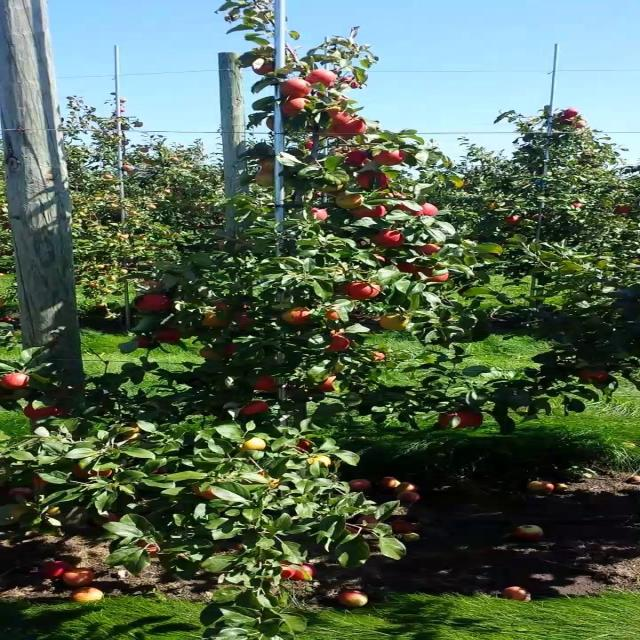apple: (344, 281, 382, 300), (331, 118, 367, 138), (133, 294, 173, 311), (356, 170, 389, 189), (280, 78, 311, 98), (73, 464, 113, 479), (304, 69, 338, 86), (22, 404, 58, 420), (373, 230, 404, 248), (324, 332, 351, 352), (371, 150, 404, 166), (578, 368, 611, 384), (280, 565, 313, 581), (380, 314, 411, 331), (282, 306, 309, 325), (351, 205, 387, 219), (456, 410, 482, 429), (0, 372, 29, 389), (280, 98, 307, 116), (336, 192, 364, 209), (436, 411, 462, 429), (240, 400, 269, 416), (202, 311, 229, 328), (324, 106, 351, 123), (420, 268, 451, 282), (251, 375, 278, 391), (251, 58, 276, 75), (344, 149, 369, 166), (156, 328, 182, 344), (136, 540, 160, 557), (280, 565, 304, 581), (93, 512, 120, 526), (396, 201, 422, 215), (194, 485, 218, 500), (329, 109, 351, 125), (240, 438, 267, 451), (411, 202, 436, 216), (236, 312, 256, 329), (416, 242, 442, 255), (200, 346, 224, 360), (256, 169, 273, 188), (313, 184, 344, 194), (318, 375, 336, 392), (307, 455, 331, 467), (136, 281, 164, 291), (396, 262, 420, 273), (331, 112, 353, 124), (340, 76, 360, 89), (316, 184, 344, 193), (31, 475, 49, 488), (296, 439, 313, 452), (369, 350, 387, 362), (259, 158, 273, 172), (312, 208, 327, 221), (222, 344, 238, 356), (136, 336, 153, 347), (324, 309, 340, 320), (213, 300, 229, 311), (264, 116, 276, 129), (267, 478, 280, 489), (374, 254, 387, 262), (304, 139, 313, 148), (258, 471, 269, 477)
